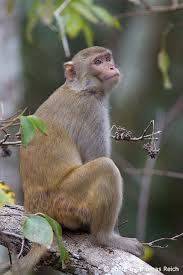monkey: (28, 30, 156, 266)
